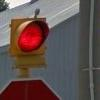Traffic light: (10, 6, 54, 77)
